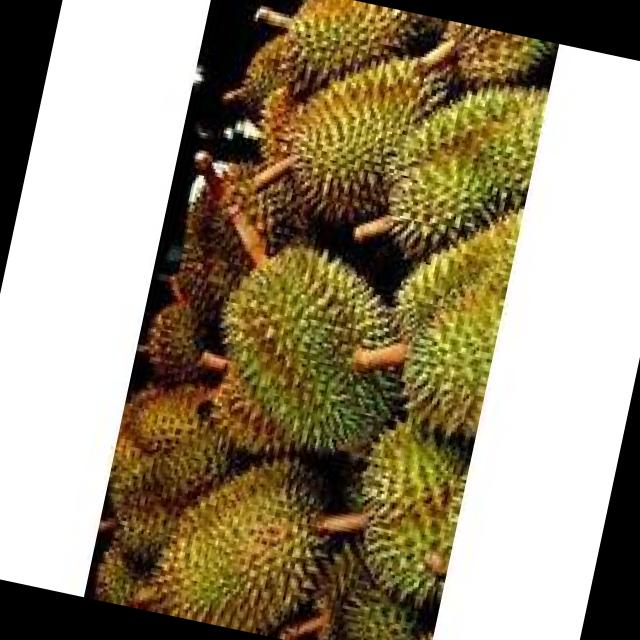fruit: (188, 0, 560, 300), (148, 189, 461, 511), (111, 422, 396, 640)
